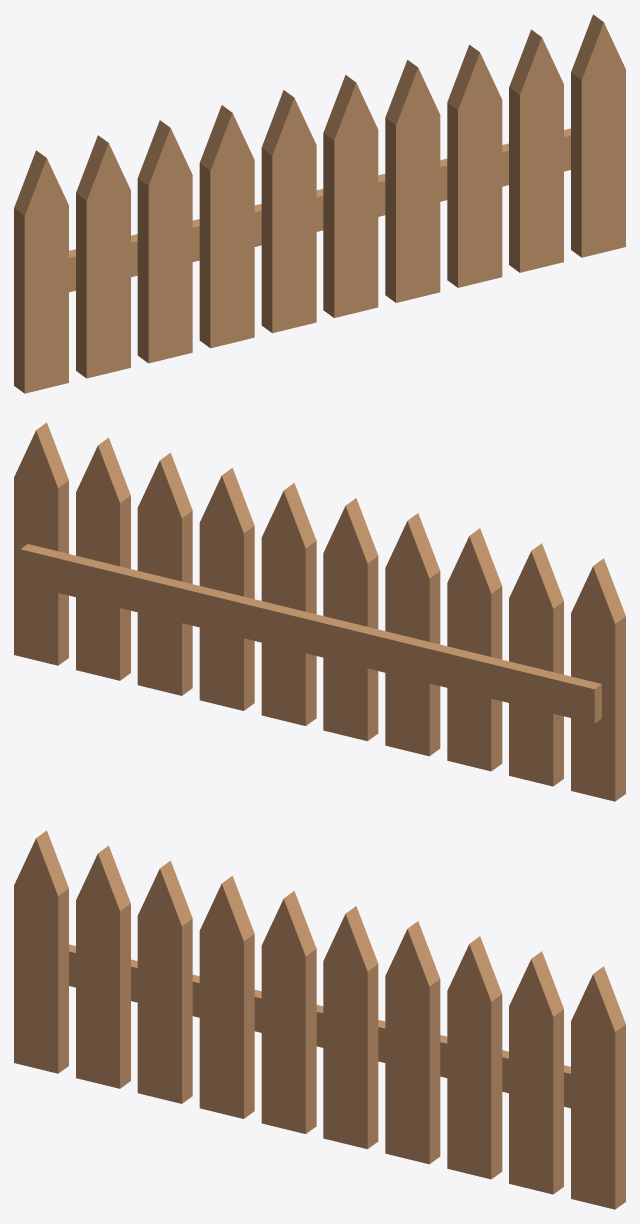
The model's file is cloture1.fbx.
3 renders of one model, top to bottom at view 1: azimuth 30°, elevation 25°; view 2: azimuth 150°, elevation 25°; view 3: azimuth 330°, elevation 25°, orthographic.
Parts seen in each view (by area): view 1: Cube; view 2: Cube; view 3: Cube.
Part boxes in pixels (x1,y1,x2,y2): Cube: (14,14,625,393); Cube: (14,422,625,801); Cube: (14,830,625,1209).
Size of the model in its own units: 1038 by 380 by 54.13.
